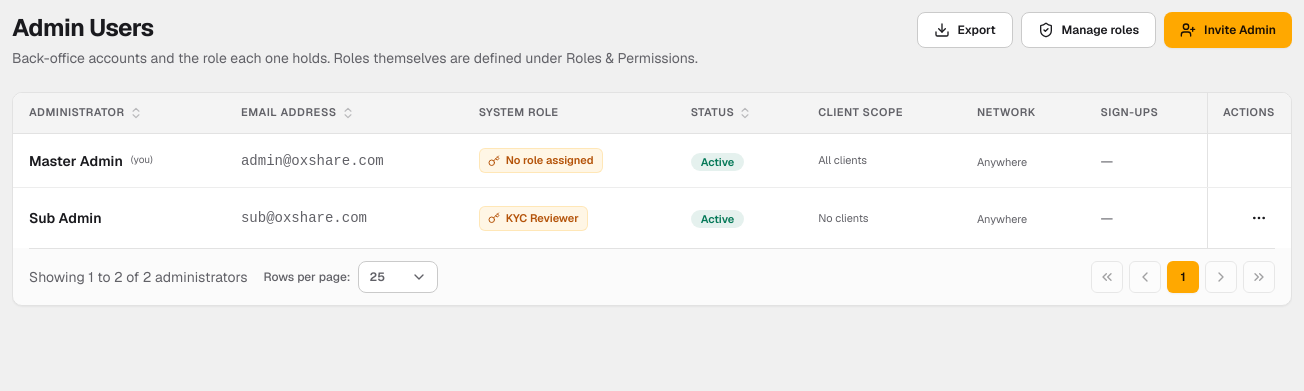
it: suspending an administrator › is never offered on yourself or on a master admin
Expected: the text "sub@oxshare.com" is shown, [225, 188, 463, 248]
Press Escape
Click the button named "Actions for Sub Admin" at (1259, 218), box [1243, 202, 1275, 234]
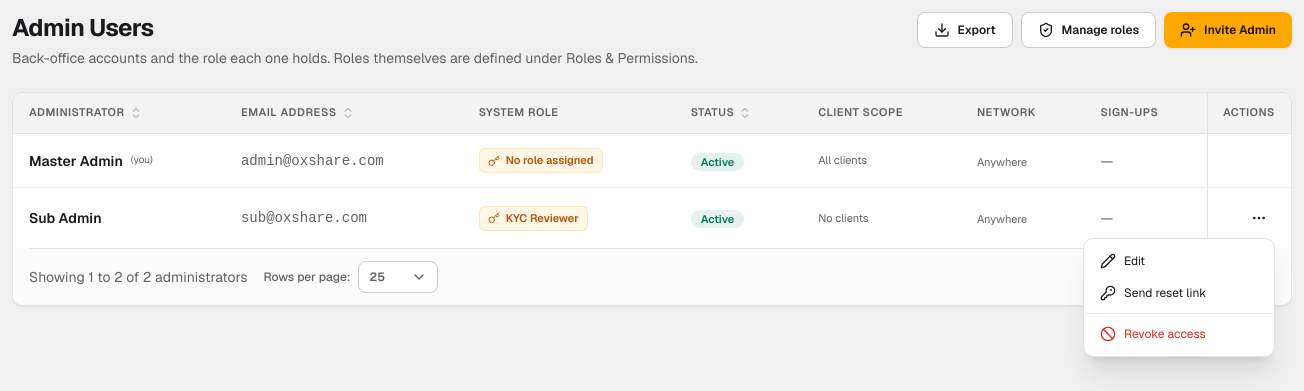
Expected: the menu item "Revoke access" is shown, [1100, 326, 1206, 342]
